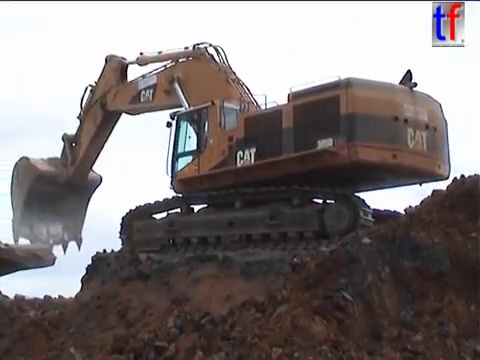excavator: (7, 40, 453, 257)
truck: (1, 238, 59, 280)
